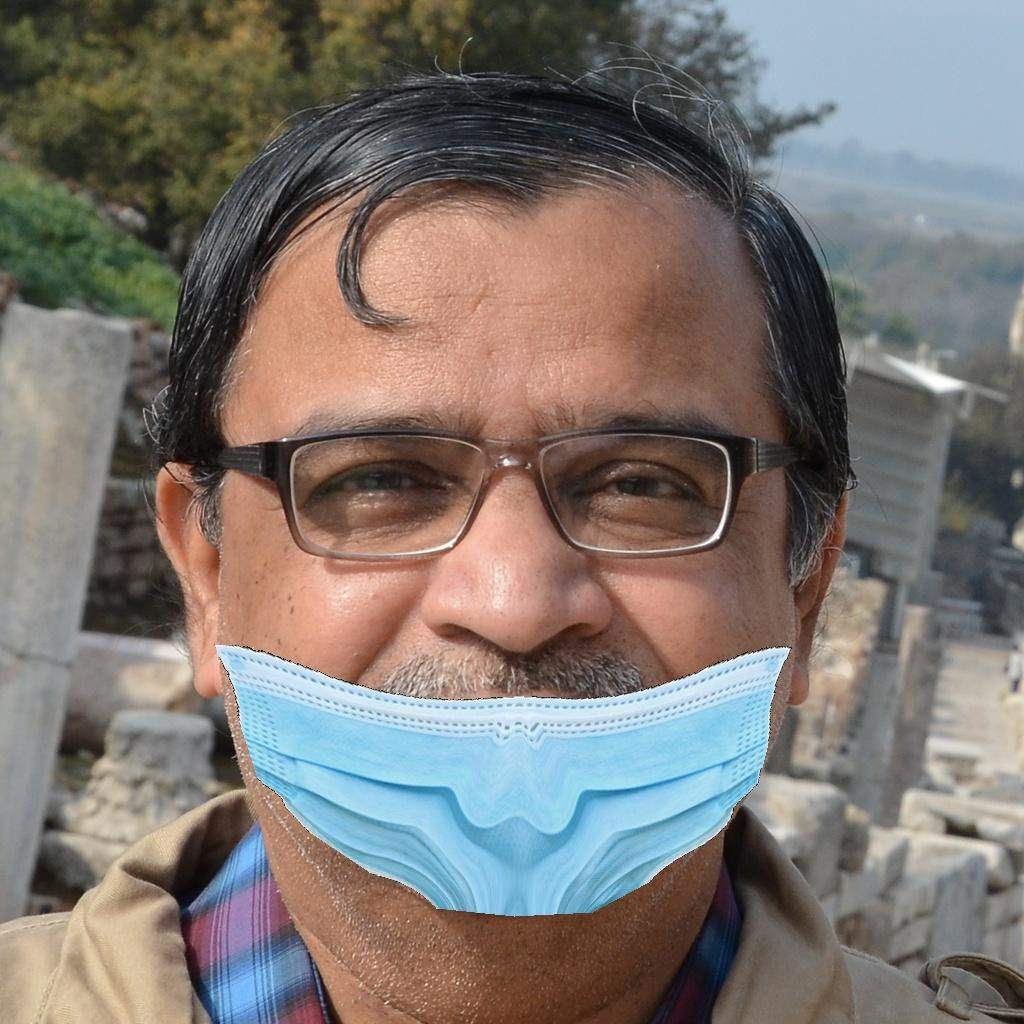Máscara Incorreta: (210, 203, 789, 929)
